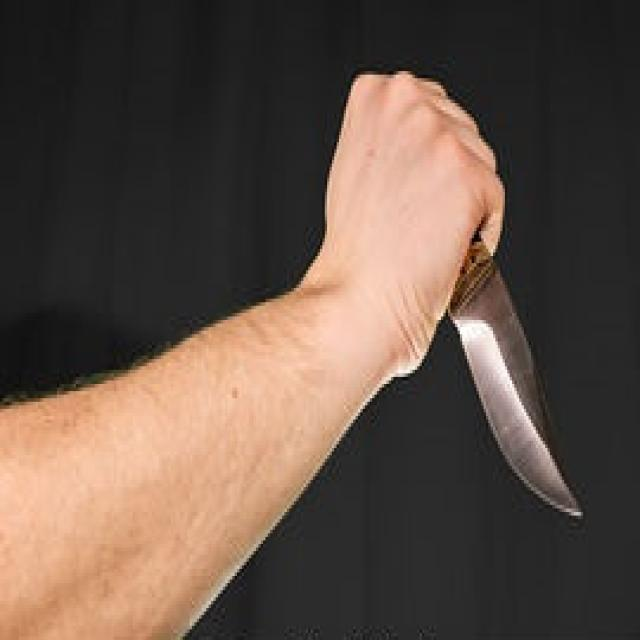knife: (447, 229, 603, 536)
